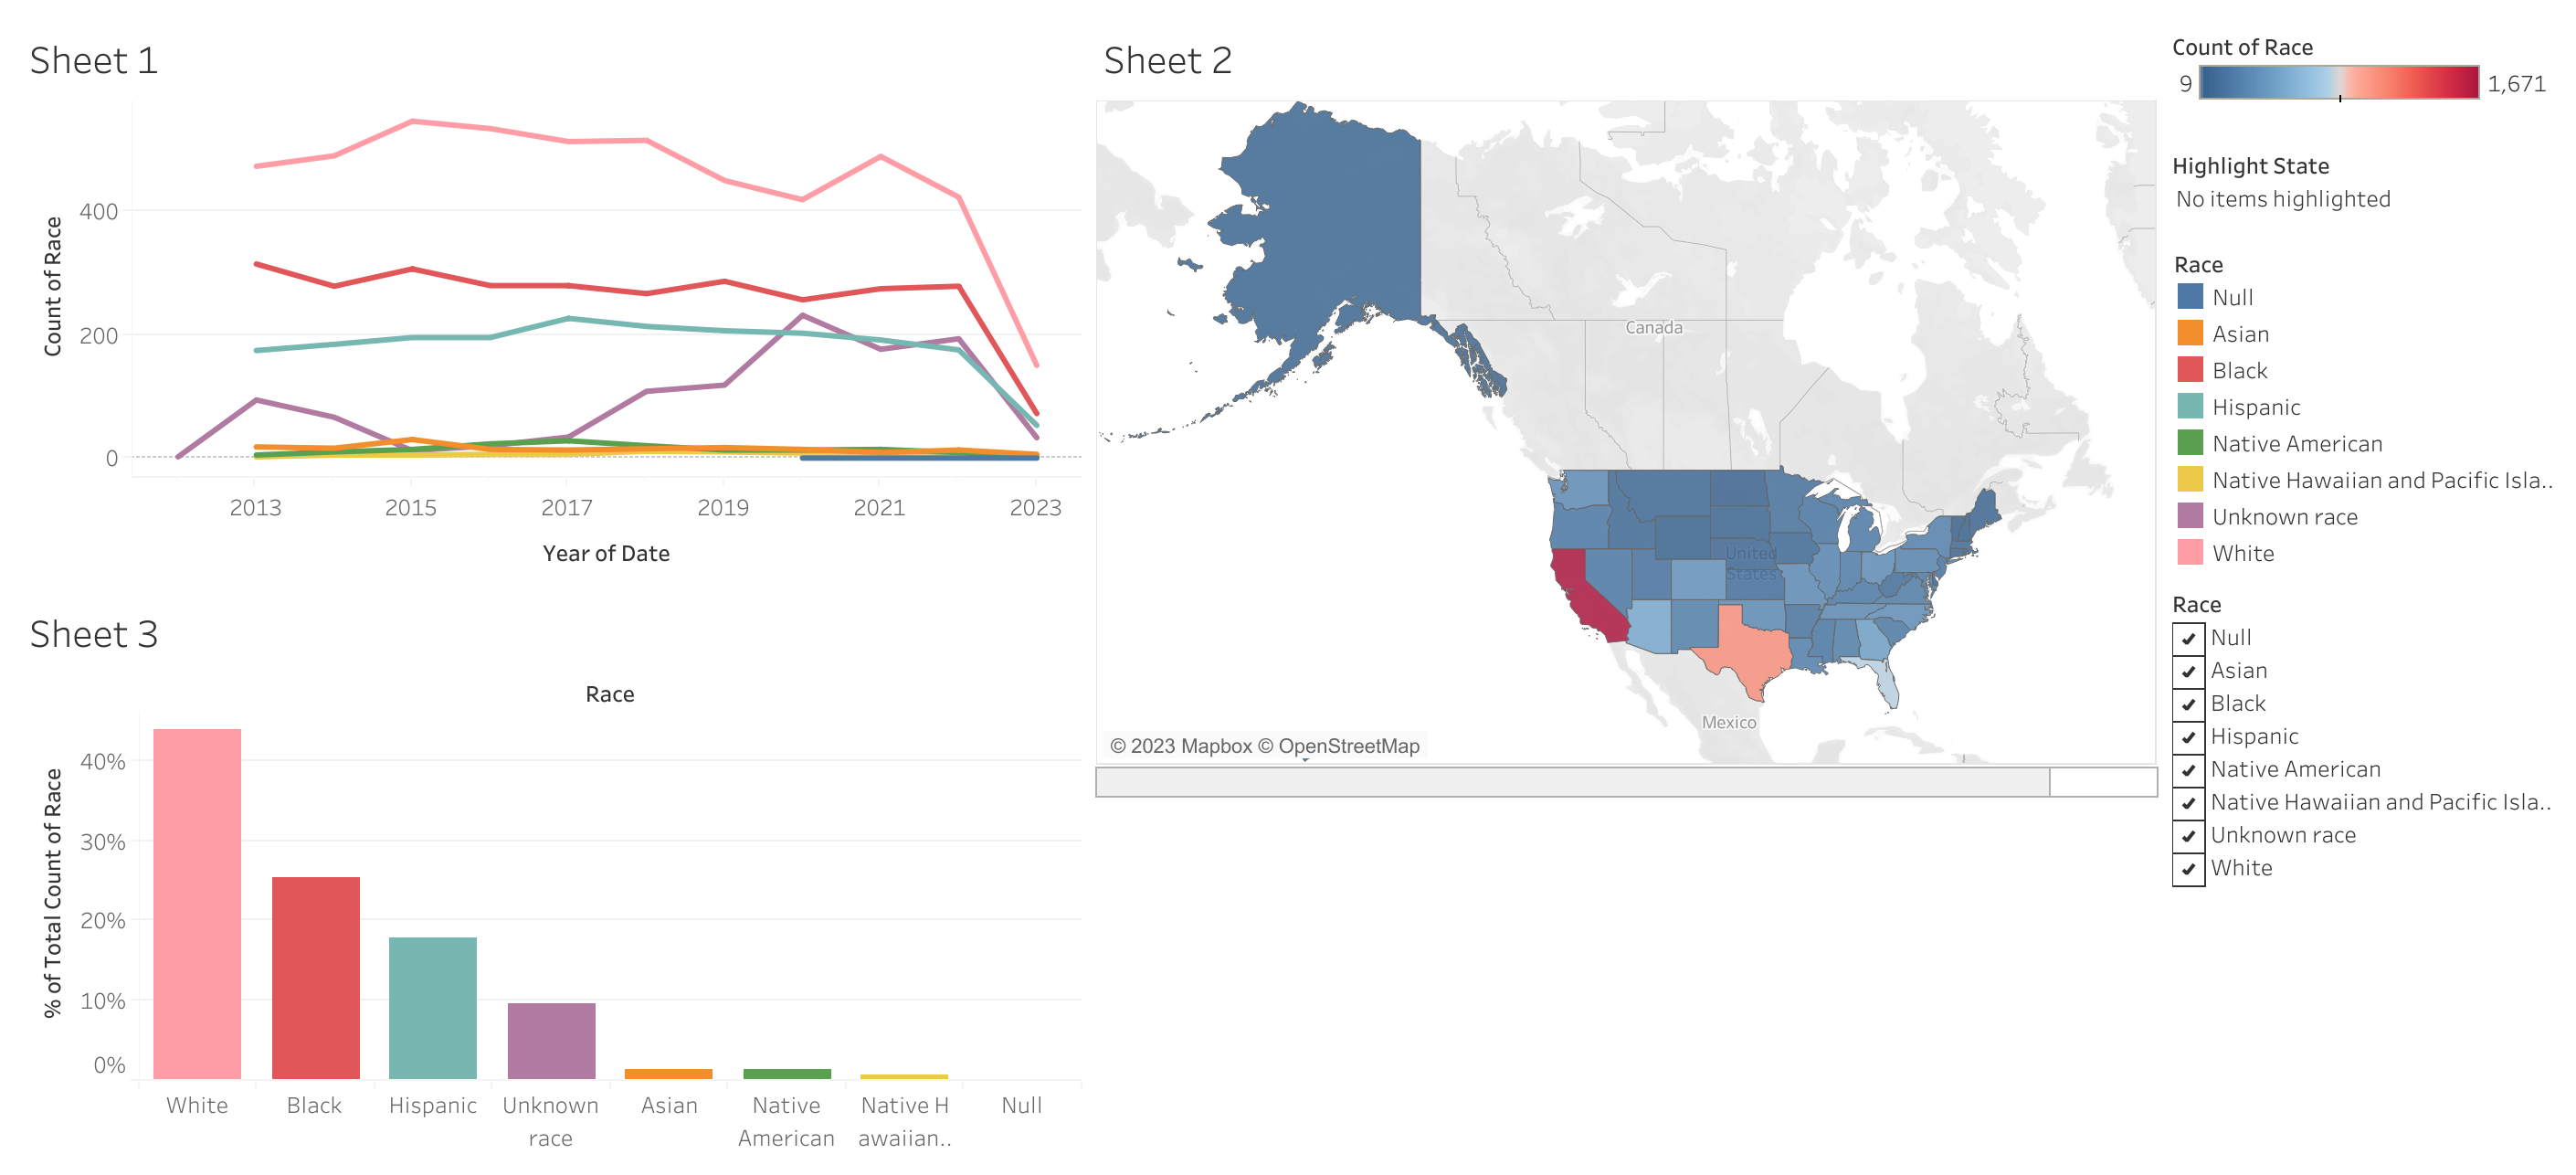

What the dashboard file says about the page in this screenshot:
{"tool":"tableau","page":{"name":"Dashboard 1","canvas":[1000,1000],"units":"permille","ordinal":0},"visuals":[{"type":"worksheet","title":"Sheet 1","mark":"Automatic","rows":["race"],"cols":["date"],"box":[15.8,11.6,269.5,488.4]},{"type":"worksheet","title":"Sheet 2","mark":"Multipolygon","box":[285.3,11.6,269.8,976.8]},{"type":"legend","title":"Sheet 2","param":"[federated.0bqin3d11eoxq21e7galx07dwc5y].[cnt:race:qk]","box":[555.1,11.6,429.1,94.1]},{"type":"highlighter","title":"Sheet 2","param":"[federated.0bqin3d11eoxq21e7galx07dwc5y].[none:state:nk]","box":[555.1,105.7,429.1,75.3]},{"type":"legend","title":"Sheet 3","param":"[federated.0bqin3d11eoxq21e7galx07dwc5y].[none:race:nk]","box":[555.1,180.9,429.1,269.2]},{"type":"filter","title":"Sheet 1","param":"[federated.0bqin3d11eoxq21e7galx07dwc5y].[none:race:nk]","box":[555.1,450.1,429.1,293.8]},{"type":"worksheet","title":"Sheet 3","mark":"Automatic","rows":["race"],"cols":["race"],"box":[15.8,500,269.5,488.4]}]}

Visuals, with their boxes on the dashboard's canvas, which has no fixed pixel size, in thousandths of its width and height (x1, y1, x2, y2). These are canvas units, not pixel positions in the 2576x1175 screenshot, which may show the page scaled, cropped or inside an application window:
"Sheet 1" worksheet: x1=16, y1=12, x2=285, y2=500
"Sheet 2" worksheet (Multipolygon marks): x1=285, y1=12, x2=555, y2=988
"Sheet 2" legend: x1=555, y1=12, x2=984, y2=106
"Sheet 2" highlighter: x1=555, y1=106, x2=984, y2=181
"Sheet 3" legend: x1=555, y1=181, x2=984, y2=450
"Sheet 1" filter: x1=555, y1=450, x2=984, y2=744
"Sheet 3" worksheet: x1=16, y1=500, x2=285, y2=988
